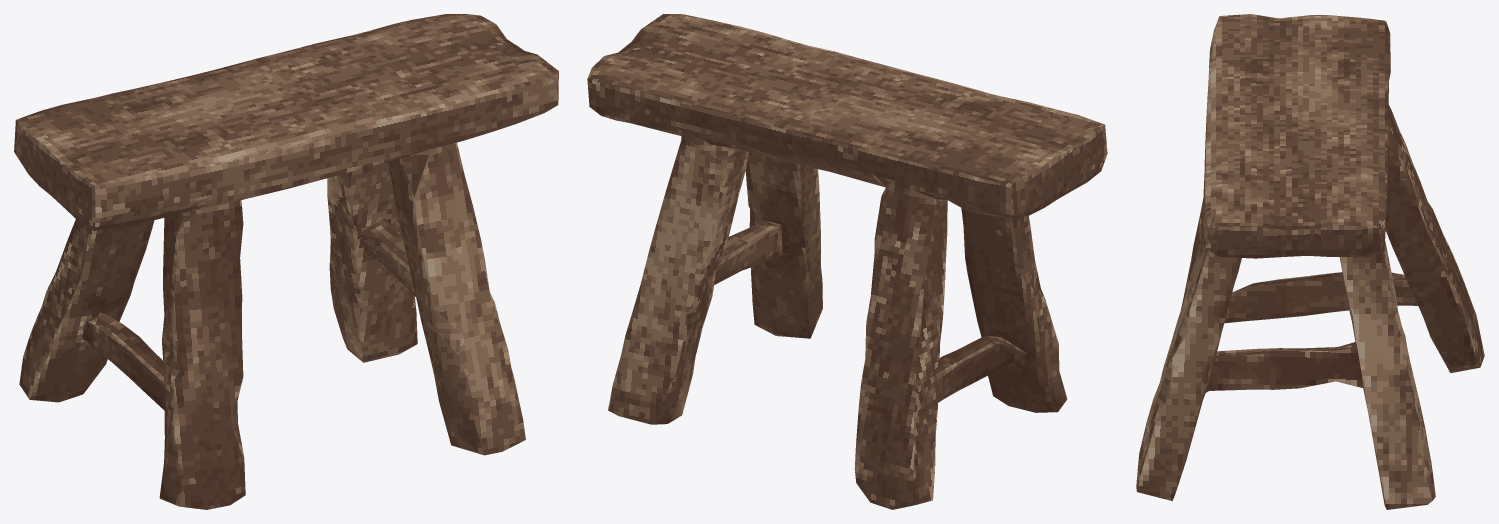
File: wooden_stool_02.glb
3 renders of one model, left to right at view 1: azimuth 30°, elevation 25°; view 2: azimuth 150°, elevation 25°; view 3: azimuth 270°, elevation 25°, orthographic. The views are drawn at different scales.
Parts seen in each view (by area): view 1: mesh; view 2: mesh; view 3: mesh.
Part boxes in pixels (x1,y1,x2,y2): mesh: (14, 14, 558, 509); mesh: (587, 14, 1107, 509); mesh: (1136, 14, 1484, 509).
Size of the model in its own units: 14.6 by 10 by 10.01.
Materials: 1 (1 with a texture image).
